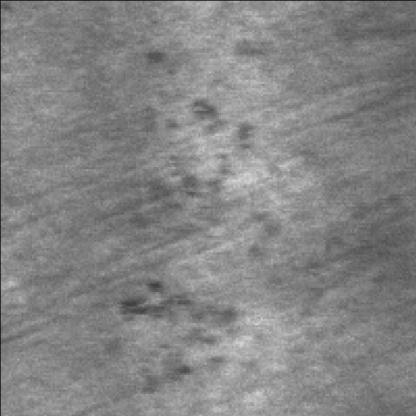rolled-in_scale: (122, 96, 254, 239), (119, 276, 244, 398)
